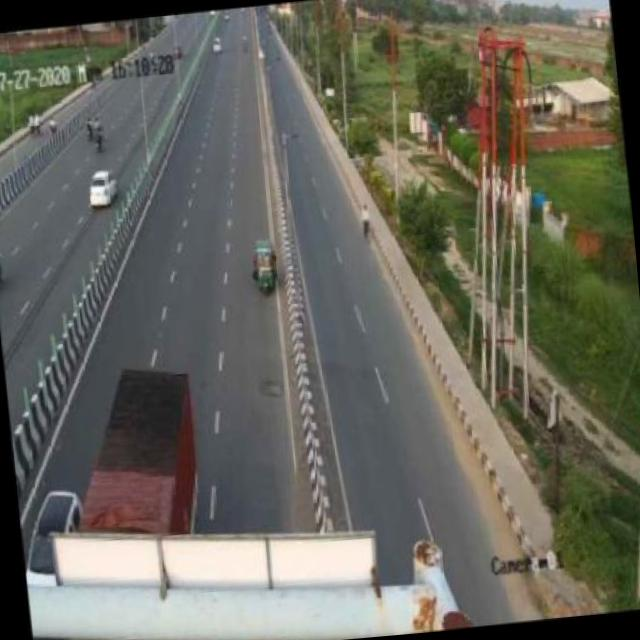car: (86, 168, 117, 209)
